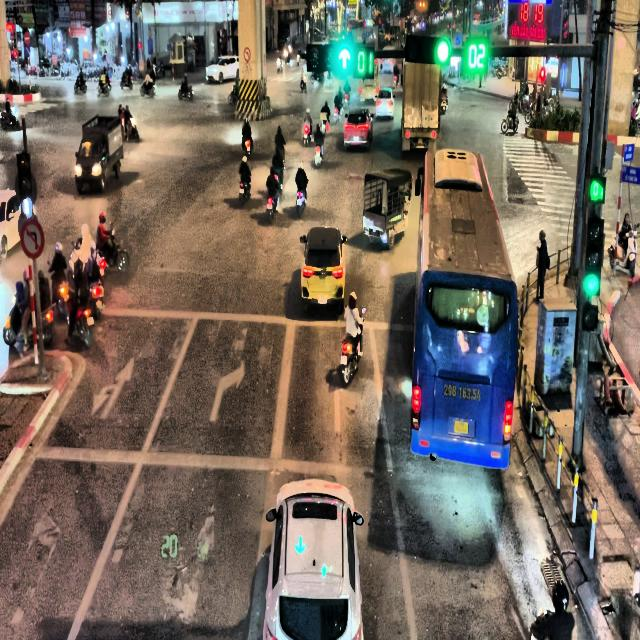BUS: (410, 148, 518, 468)
CAR: (263, 478, 364, 640), (300, 226, 348, 314), (343, 107, 372, 151), (205, 55, 239, 84), (375, 86, 394, 120)
MOTORBIKE: (58, 284, 94, 348), (340, 308, 366, 385), (99, 225, 129, 272), (266, 188, 280, 224), (122, 113, 139, 141), (0, 107, 18, 129), (501, 112, 519, 133), (239, 174, 251, 204), (296, 185, 306, 218), (140, 80, 156, 96), (178, 84, 193, 100), (97, 80, 111, 97), (302, 122, 312, 145), (314, 143, 323, 168), (74, 77, 87, 94), (242, 136, 252, 157), (120, 74, 133, 90), (228, 86, 238, 104), (333, 103, 342, 122), (300, 72, 307, 91)
